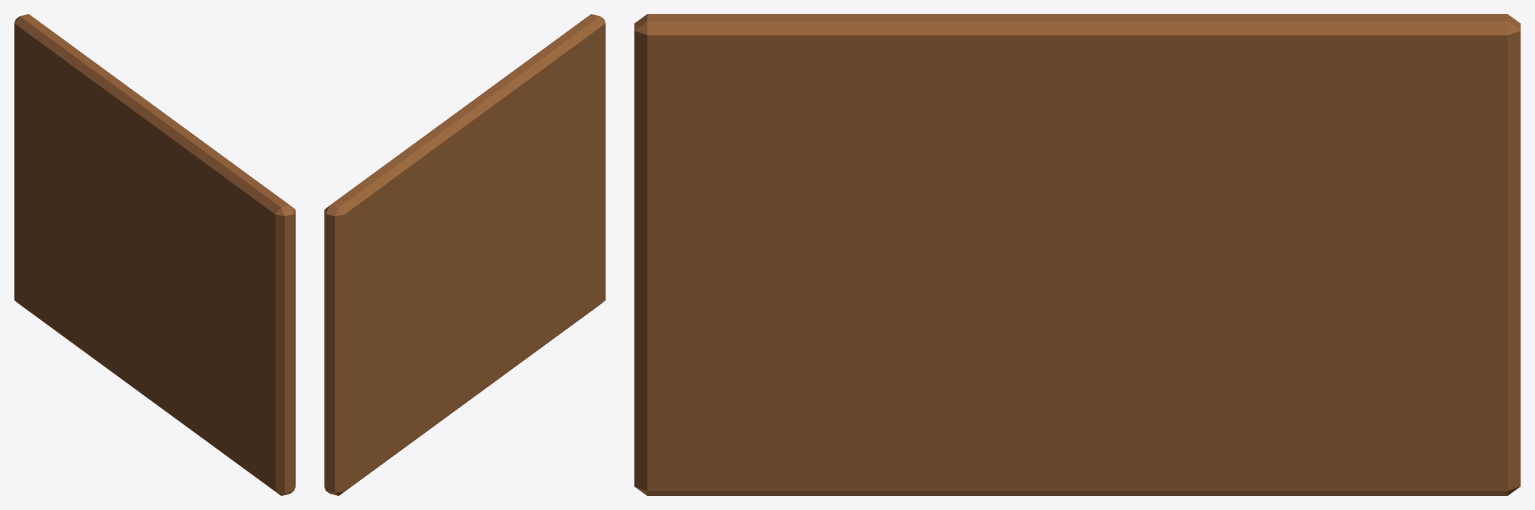
File: sign.fbx
The picture shows the model from 3 angles, left to right: view 1: azimuth 30°, elevation 25°; view 2: azimuth 150°, elevation 25°; view 3: azimuth 270°, elevation 25°; orthographic projection. The views are drawn at different scales.
Visible parts, largest first — view 1: Cube; view 2: Cube; view 3: Cube.
Boxes of the visible parts, bbox=[...] form: Cube: bbox=[14, 14, 295, 495]; Cube: bbox=[324, 14, 605, 495]; Cube: bbox=[634, 14, 1520, 495].
Bounding box in the file's own units: 21.59 × 297 × 502.
